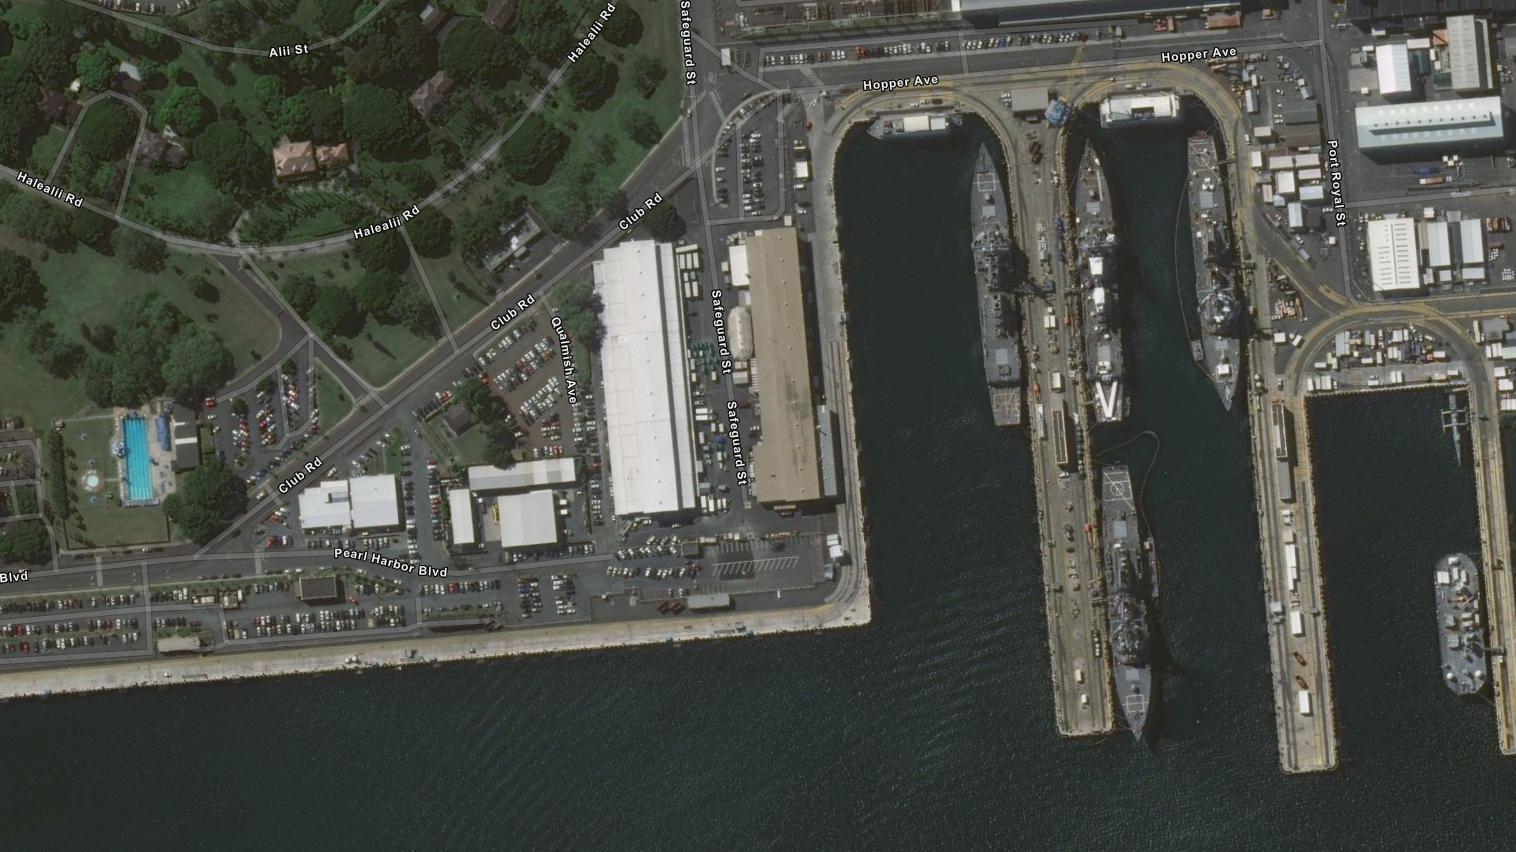fregate: (1093, 453, 1166, 751), (966, 128, 1032, 438), (1182, 122, 1249, 422), (1070, 134, 1136, 440)
